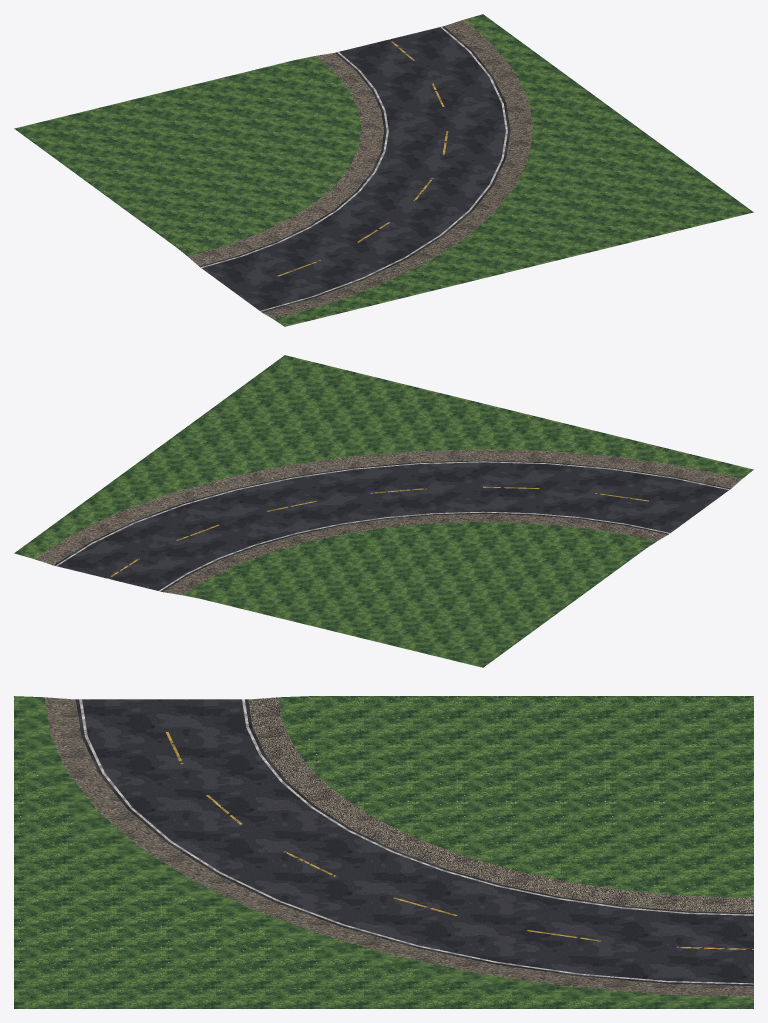
The model's file is RD_Curve_Gentle_Right_30m.obj.
3 views of the same model, one above another, from view 1: azimuth 30°, elevation 25°; view 2: azimuth 150°, elevation 25°; view 3: azimuth 270°, elevation 25° (orthographic). The views are drawn at different scales.
Parts seen in each view (by area): view 1: RD_Curve_Gentle_Right_30m_Mesh_M_Grnd_GrassOvergrown, RD_Curve_Gentle_Right_30m_Mesh_M_Road_Asphalt, RD_Curve_Gentle_Right_30m_Mesh_M_Road_Gravel, RD_Curve_Gentle_Right_30m_Mesh_M_Road_MarkingWhite; view 2: RD_Curve_Gentle_Right_30m_Mesh_M_Grnd_GrassOvergrown, RD_Curve_Gentle_Right_30m_Mesh_M_Road_Asphalt, RD_Curve_Gentle_Right_30m_Mesh_M_Road_Gravel, RD_Curve_Gentle_Right_30m_Mesh_M_Road_MarkingWhite; view 3: RD_Curve_Gentle_Right_30m_Mesh_M_Grnd_GrassOvergrown, RD_Curve_Gentle_Right_30m_Mesh_M_Road_Asphalt, RD_Curve_Gentle_Right_30m_Mesh_M_Road_Gravel, RD_Curve_Gentle_Right_30m_Mesh_M_Road_MarkingWhite, RD_Curve_Gentle_Right_30m_Mesh_M_Road_MarkingYellow.
Boxes of the visible parts, x1,y1,x2,y2 form: RD_Curve_Gentle_Right_30m_Mesh_M_Grnd_GrassOvergrown: (14, 14, 753, 326); RD_Curve_Gentle_Right_30m_Mesh_M_Road_Asphalt: (199, 26, 510, 312); RD_Curve_Gentle_Right_30m_Mesh_M_Road_Gravel: (188, 20, 532, 319); RD_Curve_Gentle_Right_30m_Mesh_M_Road_MarkingWhite: (201, 26, 507, 311); RD_Curve_Gentle_Right_30m_Mesh_M_Grnd_GrassOvergrown: (14, 355, 753, 667); RD_Curve_Gentle_Right_30m_Mesh_M_Road_Asphalt: (53, 460, 730, 591); RD_Curve_Gentle_Right_30m_Mesh_M_Road_Gravel: (34, 449, 742, 594); RD_Curve_Gentle_Right_30m_Mesh_M_Road_MarkingWhite: (55, 461, 729, 591); RD_Curve_Gentle_Right_30m_Mesh_M_Grnd_GrassOvergrown: (14, 696, 753, 1008); RD_Curve_Gentle_Right_30m_Mesh_M_Road_Asphalt: (75, 699, 753, 985); RD_Curve_Gentle_Right_30m_Mesh_M_Road_Gravel: (45, 697, 753, 996); RD_Curve_Gentle_Right_30m_Mesh_M_Road_MarkingWhite: (79, 699, 753, 984); RD_Curve_Gentle_Right_30m_Mesh_M_Road_MarkingYellow: (165, 732, 753, 949).
Bounding box in the file's own units: 30 × 0.15 × 30.
5 materials, 5 textured.
